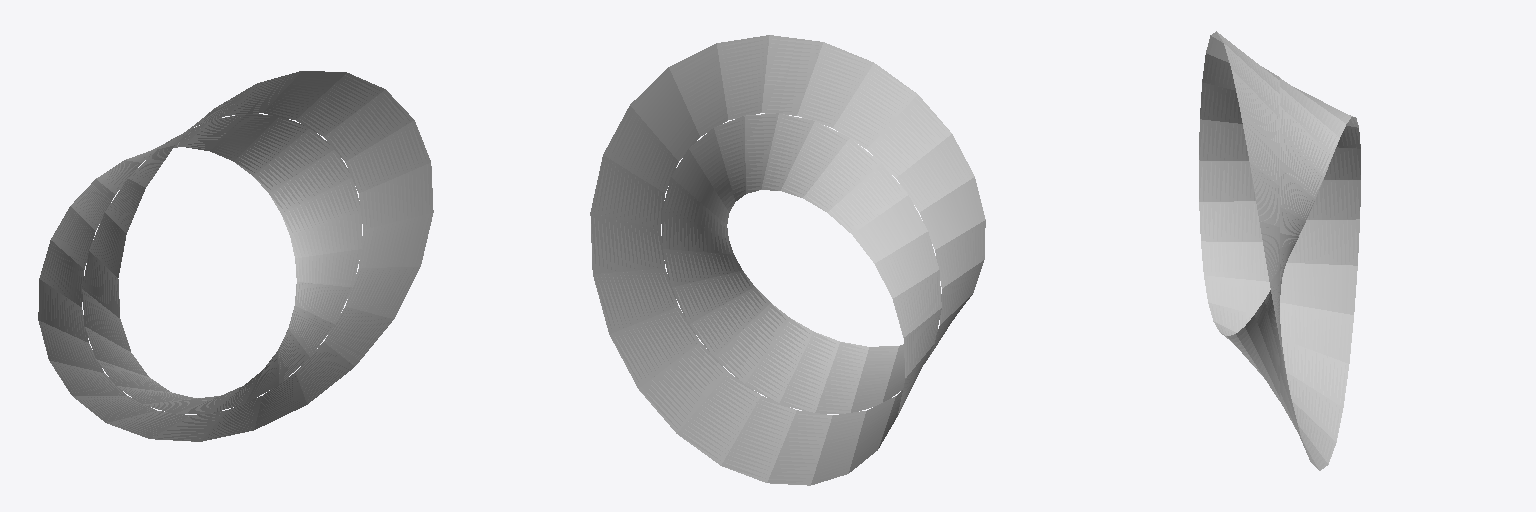
The model's file is mobiusEven.obj.
3 renders of one model, left to right at view 1: azimuth 30°, elevation 25°; view 2: azimuth 150°, elevation 25°; view 3: azimuth 270°, elevation 25°, orthographic.
Parts seen in each view (by area): view 1: mobiusThin`; view 2: mobiusThin`; view 3: mobiusThin`.
Boxes of the visible parts, box(x1,y1,x2,y2) form: mobiusThin`: box(38, 71, 433, 441); mobiusThin`: box(590, 35, 985, 485); mobiusThin`: box(1199, 31, 1360, 470).
Bounding box in the file's own units: 2.52 × 2.72 × 0.9995.